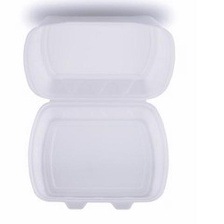foam_box: (13, 10, 180, 216)
